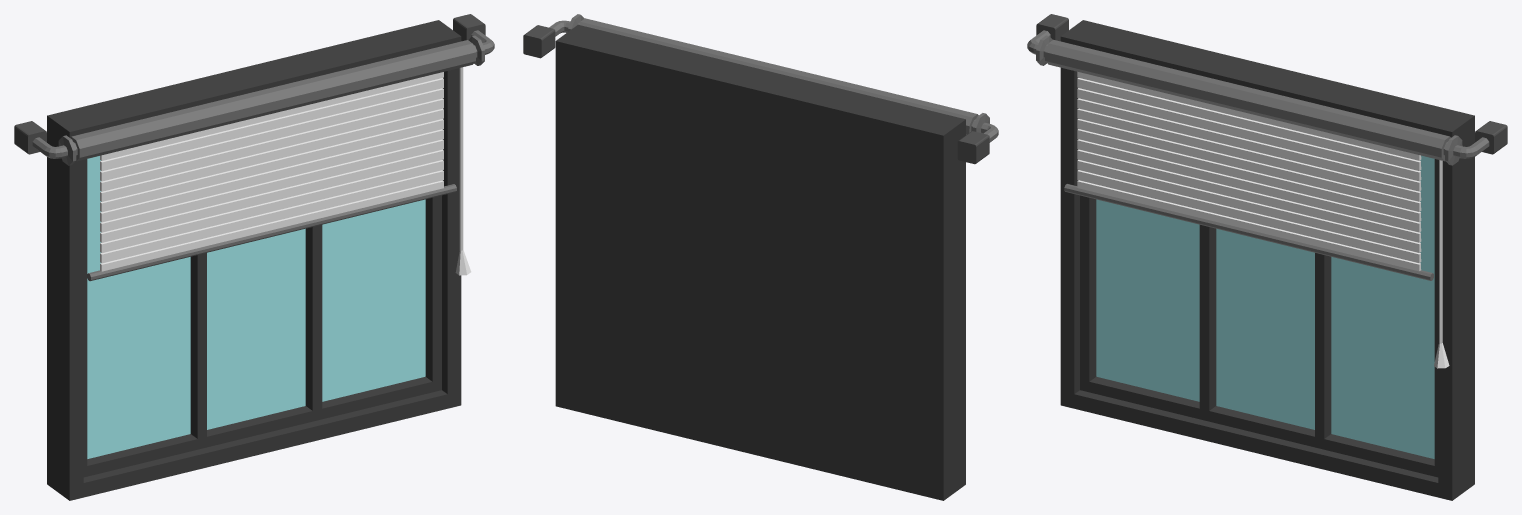
The model's file is Window_14b.fbx.
3 renders of one model, left to right at view 1: azimuth 30°, elevation 25°; view 2: azimuth 150°, elevation 25°; view 3: azimuth 330°, elevation 25°, orthographic.
Visible parts, largest first — view 1: Window_14b; view 2: Window_14b; view 3: Window_14b.
Part boxes in pixels (box(x1,y1,x2,y2)): Window_14b: box(14, 14, 494, 500); Window_14b: box(523, 14, 998, 500); Window_14b: box(1027, 14, 1507, 500).
Size of the model in its own units: 2.34 by 1.81 by 0.3216.
